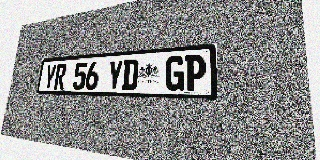5: (72, 62, 87, 90)
6: (85, 61, 100, 90)
D: (121, 59, 139, 90)
G: (165, 56, 185, 91)
P: (185, 54, 206, 91)
R: (53, 64, 67, 89)
Y: (107, 60, 123, 90), (43, 64, 57, 89)
